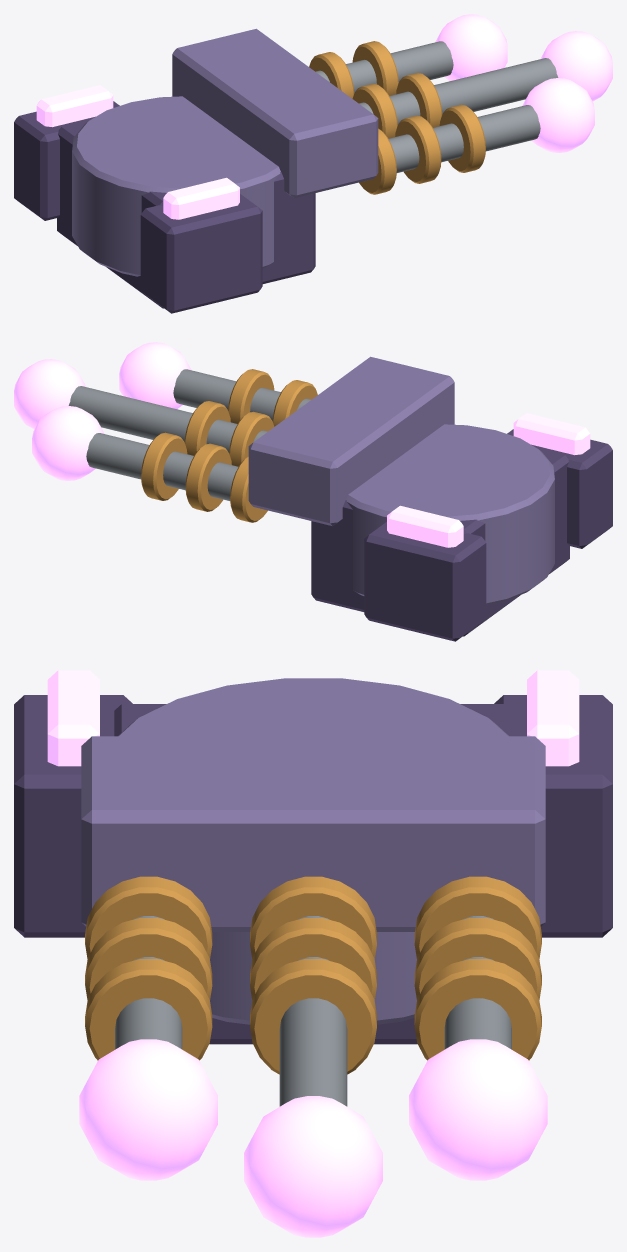
File: arc_turret_l2.glb
3 views of the same model, one above another, from view 1: azimuth 30°, elevation 25°; view 2: azimuth 150°, elevation 25°; view 3: azimuth 270°, elevation 25° (orthographic). The views are drawn at different scales.
Visible parts, largest first — view 1: Cylinder, Cube.001, Cube.002, Cube, Cylinder.005, Cube.004, Sphere, Cylinder.001, Sphere.002, Sphere.001, Cylinder.009, Cube.003 (+8 smaller); view 2: Cylinder, Cube.001, Cube.004, Cube, Cylinder.005, Cube.002, Sphere.002, Cylinder.009, Sphere, Sphere.001, Cylinder.001, Cube.005 (+8 smaller); view 3: Cube.001, Cylinder, Sphere.001, Sphere, Sphere.002, Cube.002, Cube.004, Cylinder.008, Cylinder.004, Cylinder.012, Cylinder.005, Cylinder.002 (+10 smaller).
Part boxes in pixels (x1,y1,x2,y2): Cylinder: (72,96,280,276); Cube.001: (172,28,378,198); Cube.002: (140,194,262,313); Cube: (57,120,315,308); Cylinder.005: (359,58,558,124); Cube.004: (14,101,119,220); Sphere: (522,78,594,152); Cylinder.001: (388,105,540,172); Sphere.002: (435,14,507,80); Sphere.001: (540,31,612,101); Cylinder.009: (315,41,453,92); Cube.003: (163,177,239,219); Cylinder: (346,424,554,604); Cube.001: (248,356,454,526); Cube.004: (364,522,486,641); Cube: (311,448,569,636); Cylinder.005: (68,386,267,452); Cube.002: (507,429,612,548); Sphere.002: (32,406,104,480); Cylinder.009: (86,433,238,500); Sphere: (119,342,191,408); Sphere.001: (14,359,86,429); Cylinder.001: (173,369,311,420); Cube.005: (387,505,463,547); Cube.001: (81,736,545,931); Cylinder: (118,678,508,1024); Sphere.001: (244,1096,382,1237); Sphere: (79,1039,217,1180); Sphere.002: (409,1039,547,1180); Cube.002: (14,695,132,937); Cube.004: (494,695,612,937); Cylinder.008: (250,959,376,1074); Cylinder.004: (85,959,212,1060); Cylinder.012: (414,959,541,1060); Cylinder.005: (279,916,347,1106); Cylinder.002: (85,876,212,958).
Size of the model in its own units: 1.52 by 0.42 by 0.8.
